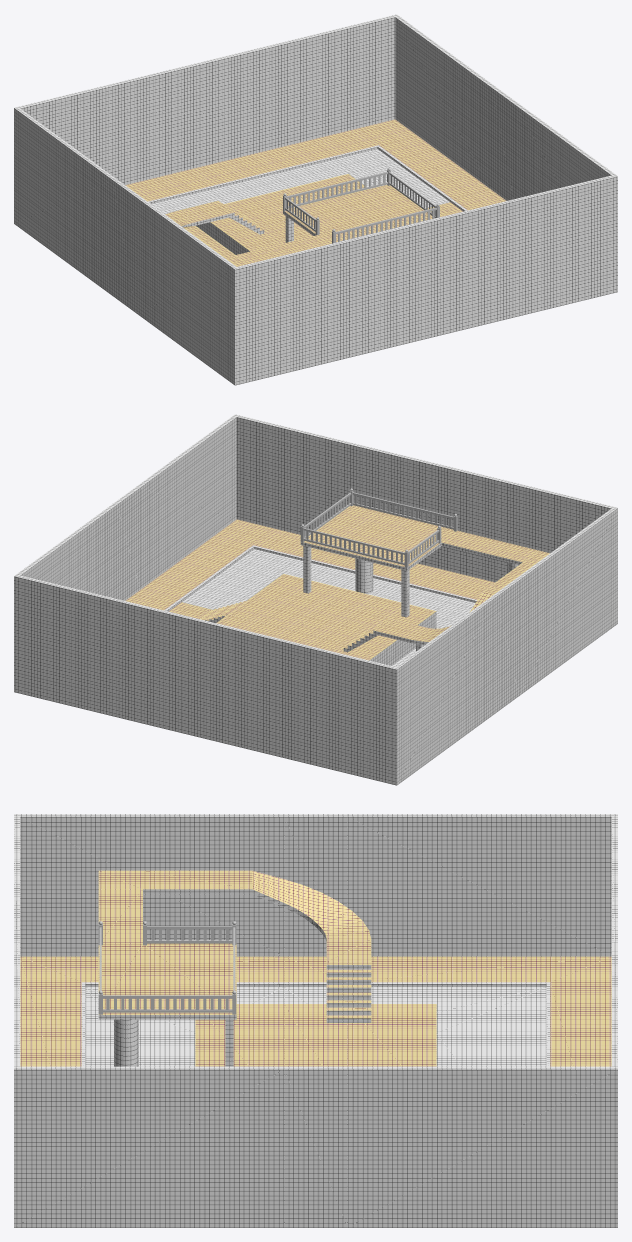
The model's file is terrrain_test.fbx.
3 views of the same model, one above another, from view 1: azimuth 30°, elevation 25°; view 2: azimuth 150°, elevation 25°; view 3: azimuth 270°, elevation 25° (orthographic). The views are drawn at different scales.
Visible parts, largest first — view 1: Plane, Plane.001; view 2: Plane, Plane.001; view 3: Plane, Plane.001.
Boxes of the visible parts, x1,y1,x2,y2 form: Plane: [14, 14, 617, 385]; Plane.001: [125, 119, 506, 266]; Plane: [14, 414, 617, 785]; Plane.001: [125, 505, 549, 660]; Plane: [14, 814, 617, 1227]; Plane.001: [20, 870, 611, 1066].
Size of the model in its own units: 2713 by 786 by 2713.
